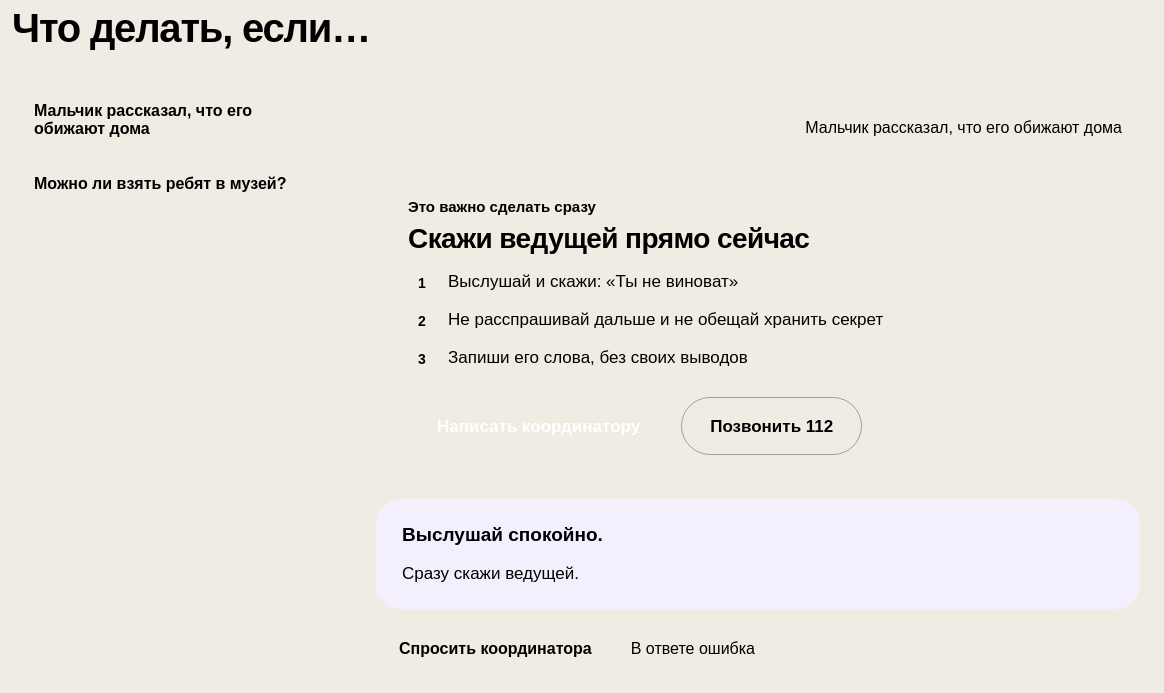
Test: Knowledge and Mentor › puts the urgent card above the answer for a child-safety disclosure and drops the quiet 112 line
Expected: the text "Это важно сделать сразу" is shown, [408, 198, 596, 215]
Expected: the list items read "1Выслушай и скажи: «Ты не виноват»", "2Не расспрашивай дальше и не обещай хранить секрет", "3Запиши его слова, без своих выводов", in this order, [418, 272, 738, 291]; [418, 310, 883, 329]; [418, 348, 748, 367]
Step 1. Click the button "Можно ли взять ребят в музей?" → {"x": 172, "y": 184}, box [22, 152, 322, 216]
(page scrolled)
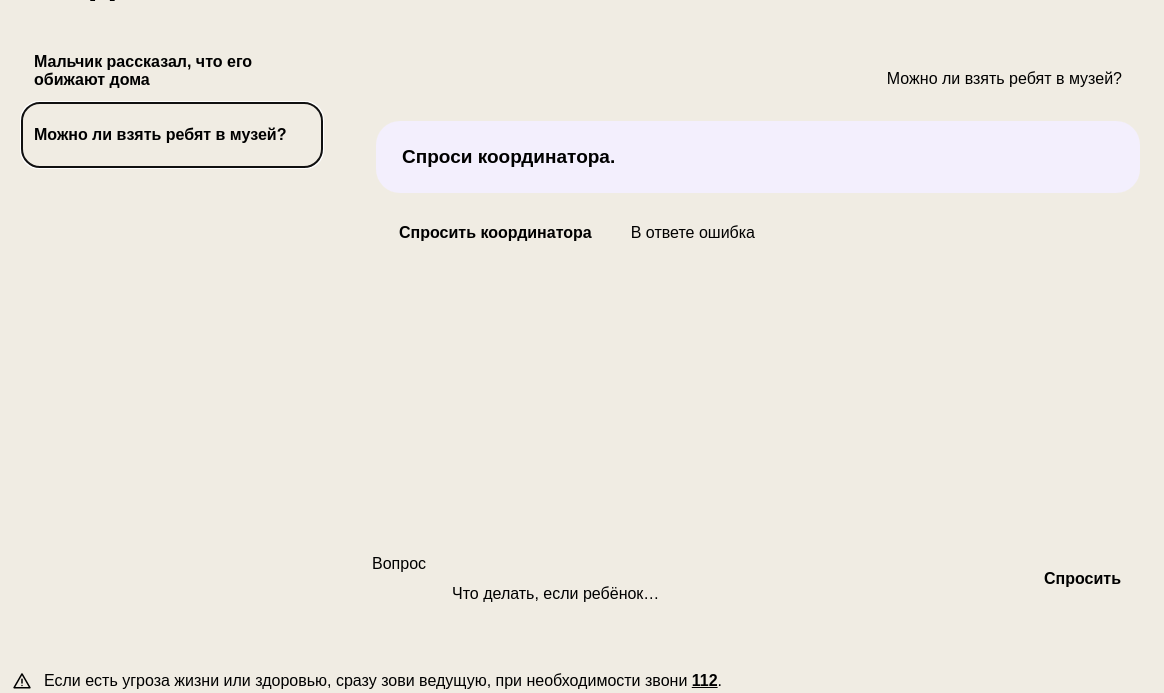
Now the text "Спроси координатора." is shown, box [402, 146, 615, 167]
Now the heading "Скажи ведущей прямо сейчас" is gone
Now the text "Если есть угроза жизни" is shown, box [44, 672, 692, 689]
